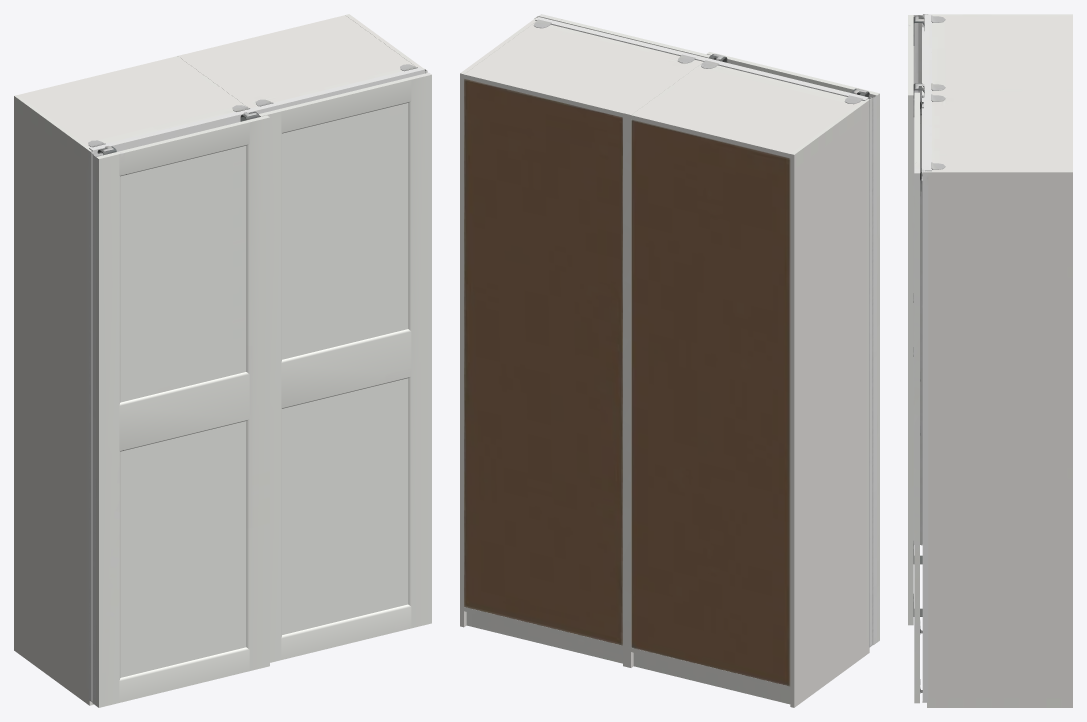
3 renders of one model, left to right at view 1: azimuth 30°, elevation 25°; view 2: azimuth 150°, elevation 25°; view 3: azimuth 270°, elevation 25°, orthographic. The views are drawn at different scales.
Visible parts, largest first — view 1: Mesh_0.001; view 2: Mesh_0.001; view 3: Mesh_0.001.
Boxes of the visible parts, bbox=[...] form: Mesh_0.001: bbox=[14, 14, 431, 707]; Mesh_0.001: bbox=[460, 14, 879, 707]; Mesh_0.001: bbox=[908, 14, 1072, 707].
Bounding box in the file's own units: 1.5 × 2.38 × 0.66.
1 material, 1 textured.
